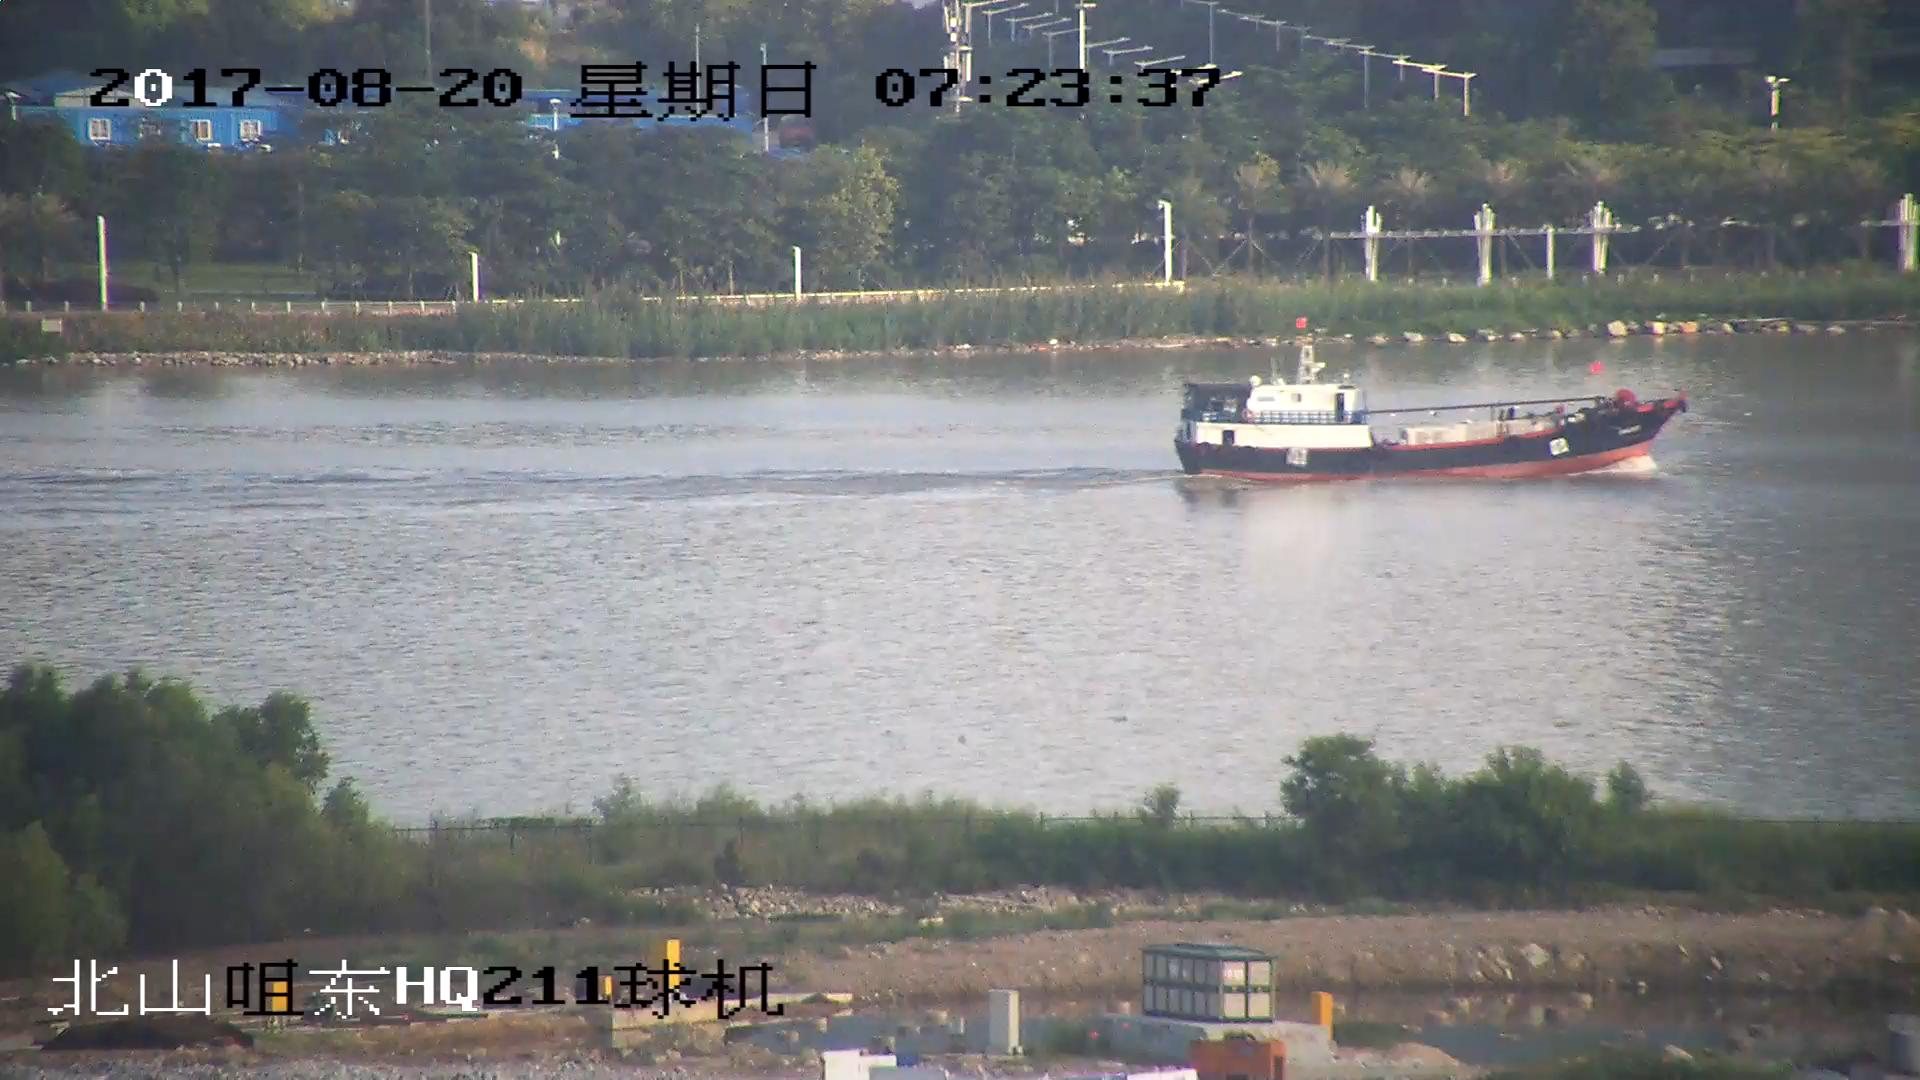fishing boat: (1173, 344, 1688, 483)
